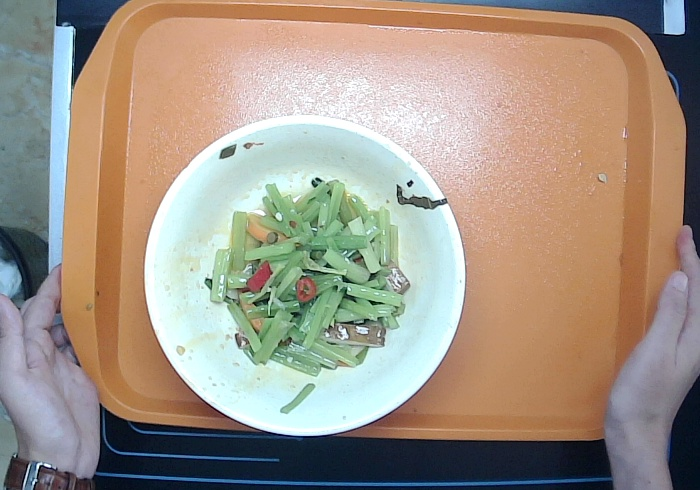ZNLD-Da_Tang_Wan: (142, 112, 467, 440)
